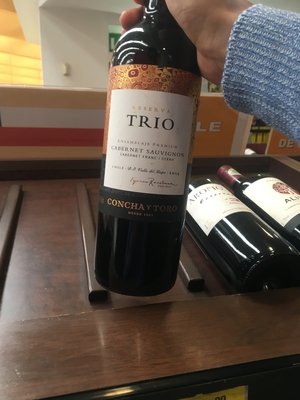trio cabernet sauvignon: (90, 10, 212, 300)
